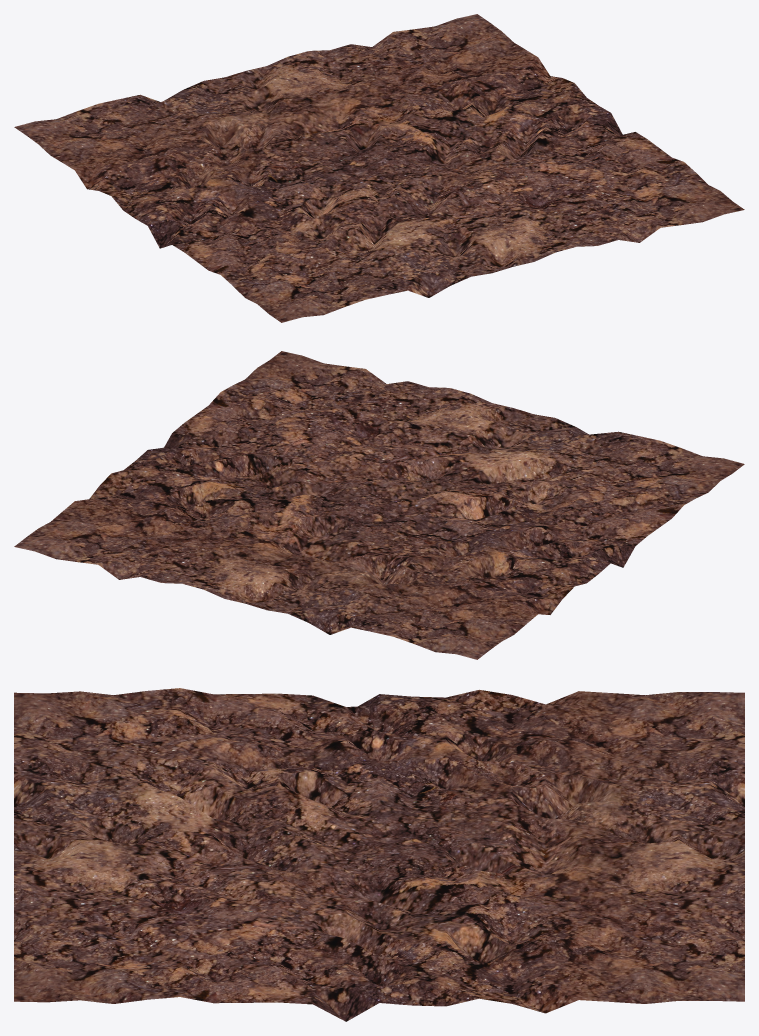
The model's file is Tile Terra.glb.
The picture shows the model from 3 angles, top to bottom: view 1: azimuth 30°, elevation 25°; view 2: azimuth 150°, elevation 25°; view 3: azimuth 270°, elevation 25°; orthographic projection. The views are drawn at different scales.
Parts seen in each view (by area): view 1: Plane; view 2: Plane; view 3: Plane.
Boxes of the visible parts, bbox=[...] form: Plane: bbox=[14, 14, 744, 322]; Plane: bbox=[14, 351, 744, 659]; Plane: bbox=[14, 688, 744, 1021].
Size of the model in its own units: 2 by 0.0848 by 2.
Materials: 1 (1 with a texture image).
